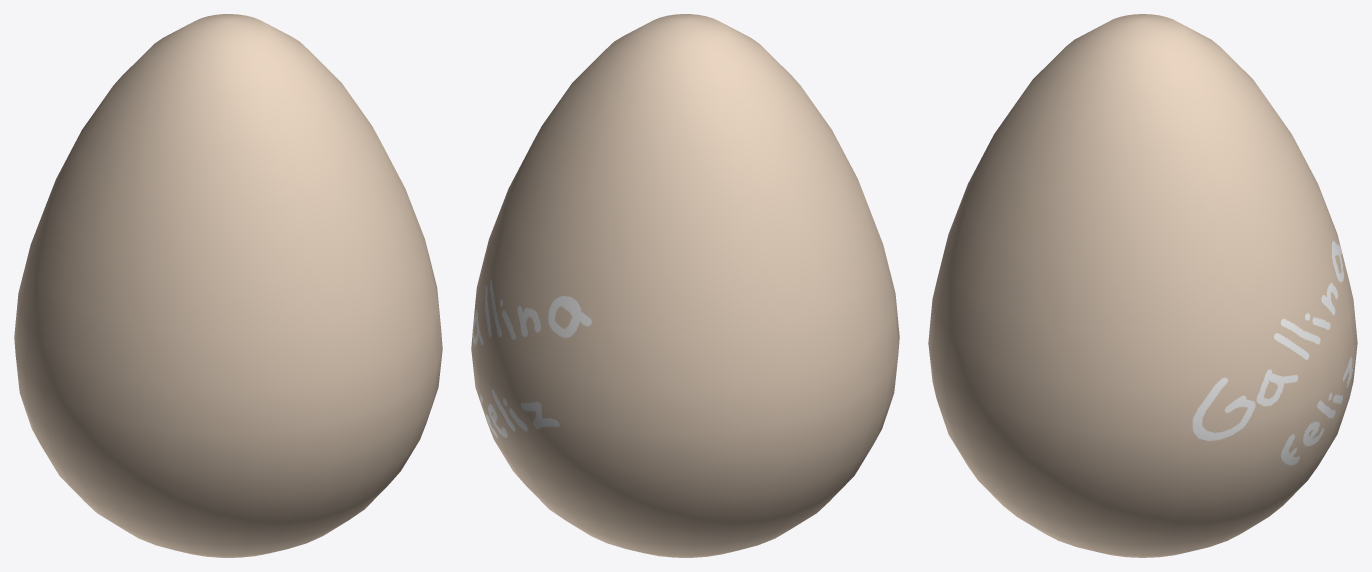
Rendered from huevo.glb.
The picture shows the model from 3 angles, left to right: view 1: azimuth 30°, elevation 25°; view 2: azimuth 150°, elevation 25°; view 3: azimuth 270°, elevation 25°; orthographic projection.
Visible parts, largest first — view 1: huevo; view 2: huevo; view 3: huevo.
Part boxes in pixels (x1,y1,x2,y2): huevo: (14,14,442,557); huevo: (471,14,899,557); huevo: (928,14,1357,557).
Bounding box in the file's own units: 2 × 2.65 × 2.
1 material, 1 textured.
